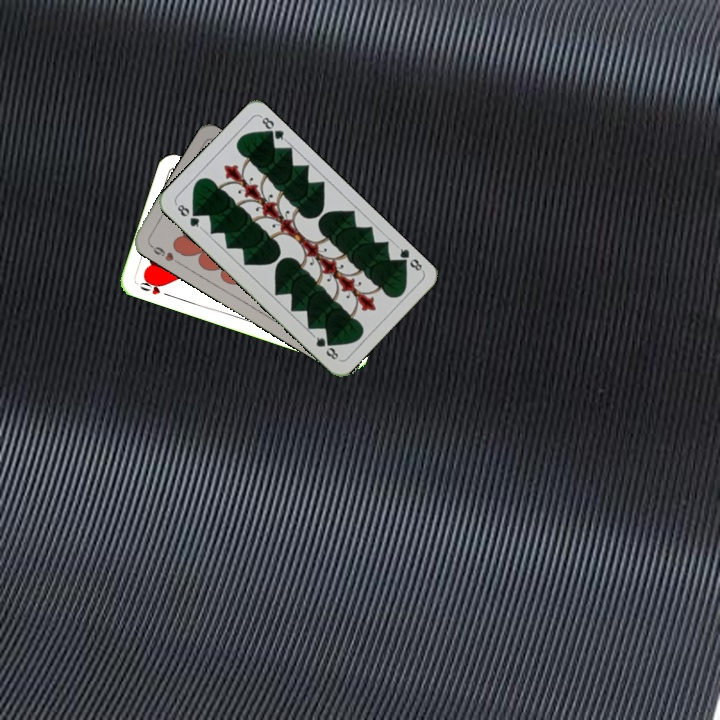G8: (393, 242, 426, 275), (172, 200, 205, 231)
H9: (146, 240, 182, 267)
HO: (133, 275, 173, 299)
